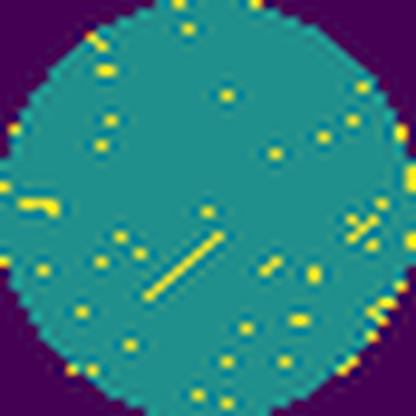Scratch: (132, 226, 232, 310)
